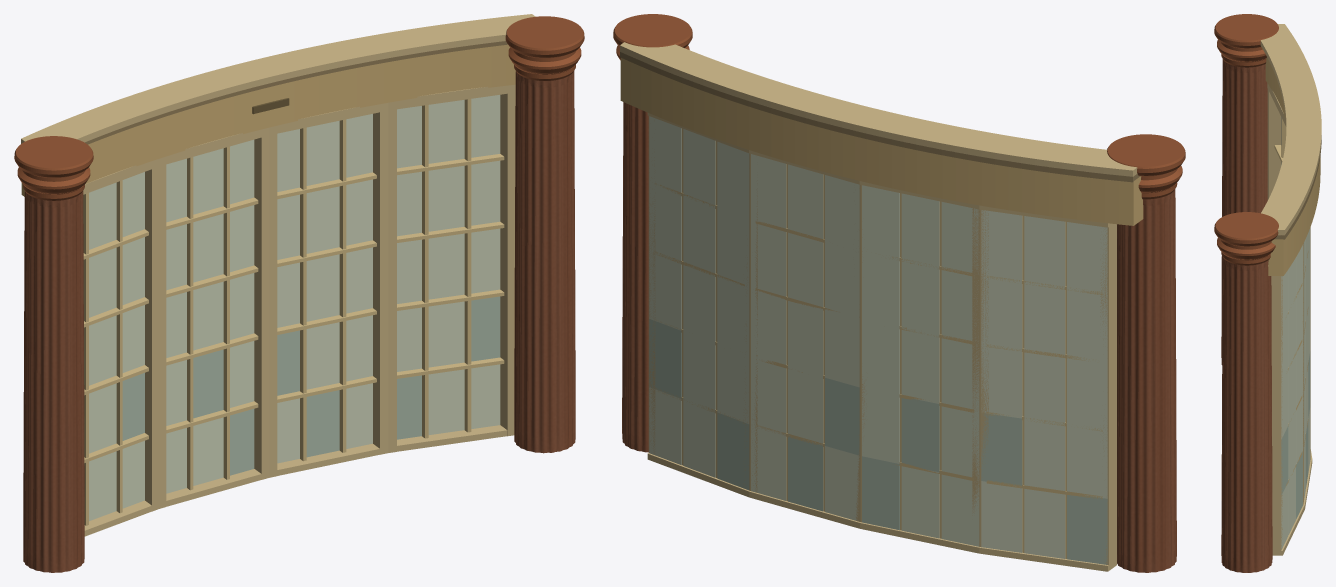
The model's file is changning-zhou-residence-curved-window-hall-raw.glb.
3 views of the same model, side by side, from view 1: azimuth 30°, elevation 25°; view 2: azimuth 150°, elevation 25°; view 3: azimuth 270°, elevation 25° (orthographic). The views are drawn at different scales.
Parts seen in each view (by area): view 1: 周氏花园住宅弧窗厅木圆柱与格扇; view 2: 周氏花园住宅弧窗厅木圆柱与格扇; view 3: 周氏花园住宅弧窗厅木圆柱与格扇.
Boxes of the visible parts, x1,y1,x2,y2 form: 周氏花园住宅弧窗厅木圆柱与格扇: [14, 14, 584, 572]; 周氏花园住宅弧窗厅木圆柱与格扇: [613, 14, 1185, 572]; 周氏花园住宅弧窗厅木圆柱与格扇: [1214, 14, 1321, 572].
Size of the model in its own units: 4.47 by 3.11 by 0.8991.
Materials: 9 (1 with a texture image).
